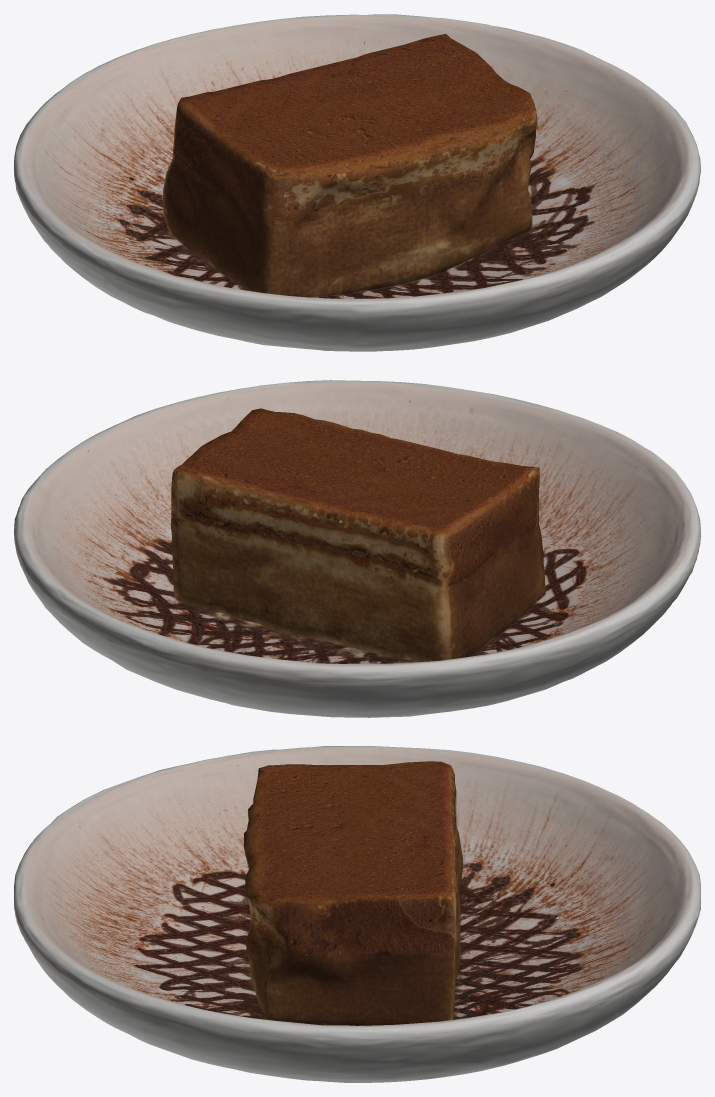
The model's file is tiramisu.fbx.
3 renders of one model, top to bottom at view 1: azimuth 30°, elevation 25°; view 2: azimuth 150°, elevation 25°; view 3: azimuth 270°, elevation 25°, orthographic.
Parts seen in each view (by area): view 1: meshes[0]; view 2: meshes[0]; view 3: meshes[0].
Part boxes in pixels (x1,y1,x2,y2): meshes[0]: [14, 14, 700, 351]; meshes[0]: [14, 380, 700, 717]; meshes[0]: [14, 746, 700, 1082].
Size of the model in its own units: 99.8 by 26.37 by 99.8.
Materials: 1 (1 with a texture image).
